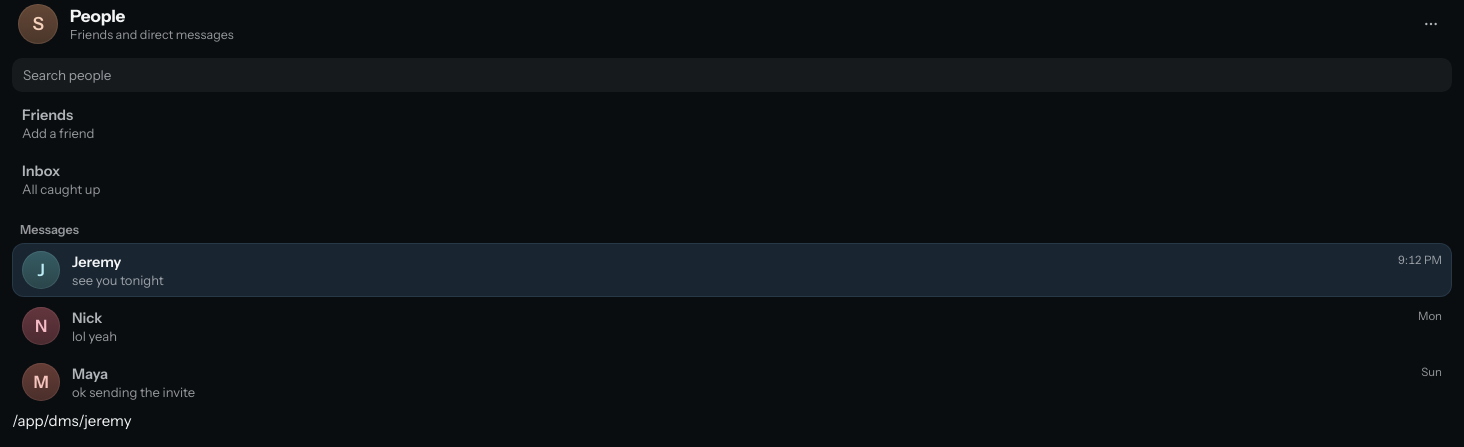
Test case: Friends and Inbox › Inbox opens its page; nothing waiting says so
Click the link with test id "ix-people-inbox": [61, 179] box [22,162,100,196]
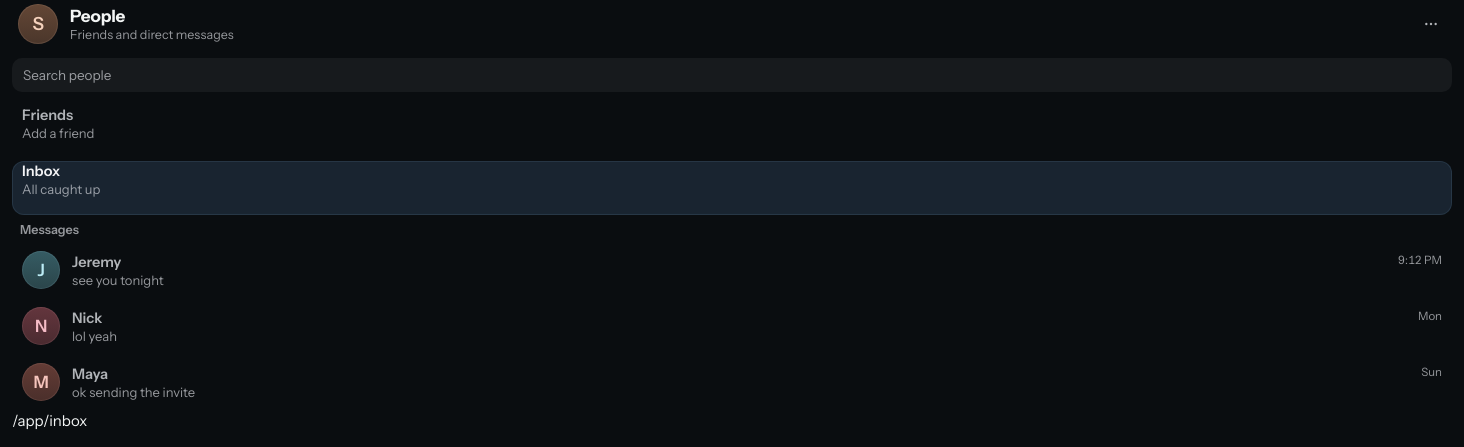
Expected: the text with test id "where" reads "/app/inbox", [12,411,87,430]
